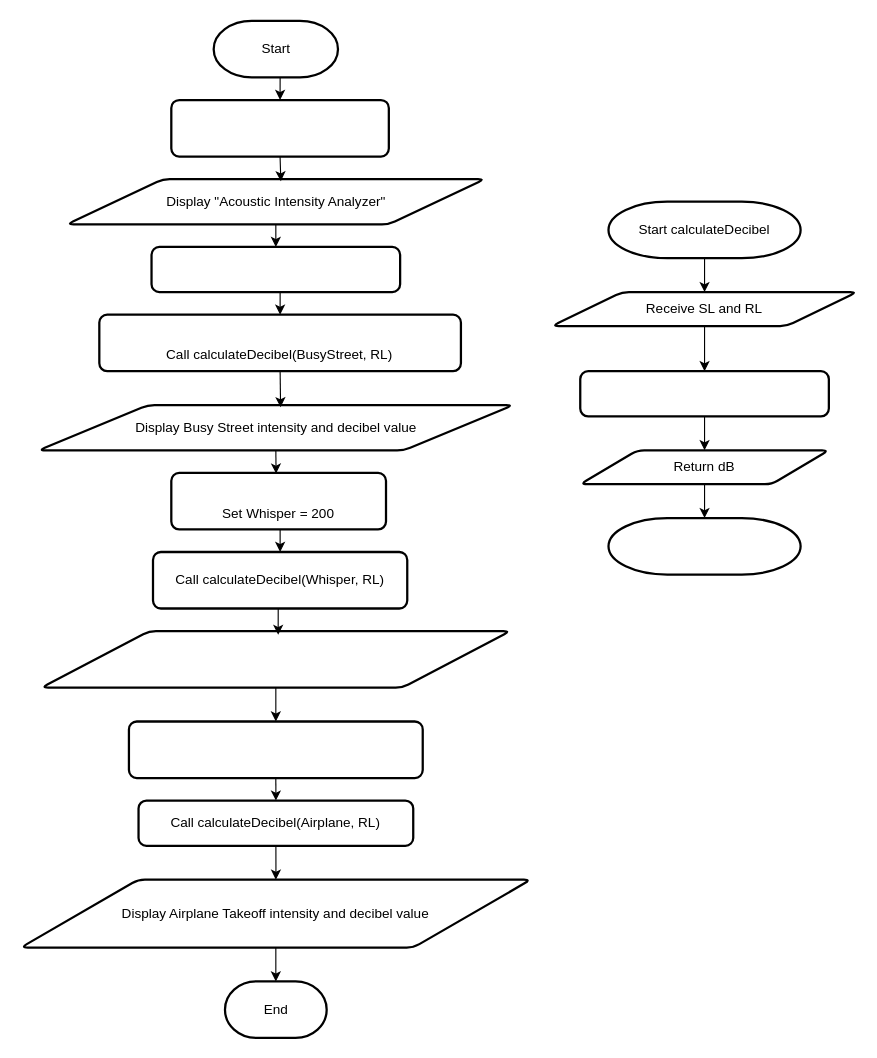
This 877x1058 diagram has some shape labels left out. The box of each missing label's shape, as (x1, y1, x2, y2) in pixels:
Compute dB = 10 * log10(SL / RL): (579, 370, 829, 417)
Display Rock Band intensity and decibel value: (40, 629, 511, 688)
End calculateDecibel: (607, 516, 801, 575)
Set Airplane = 100,000,000,000,000: (127, 720, 423, 779)
Set BusyStreet = 10,000,000: (150, 245, 401, 293)
Set reference intensity RL = 1.0: (170, 98, 389, 157)
